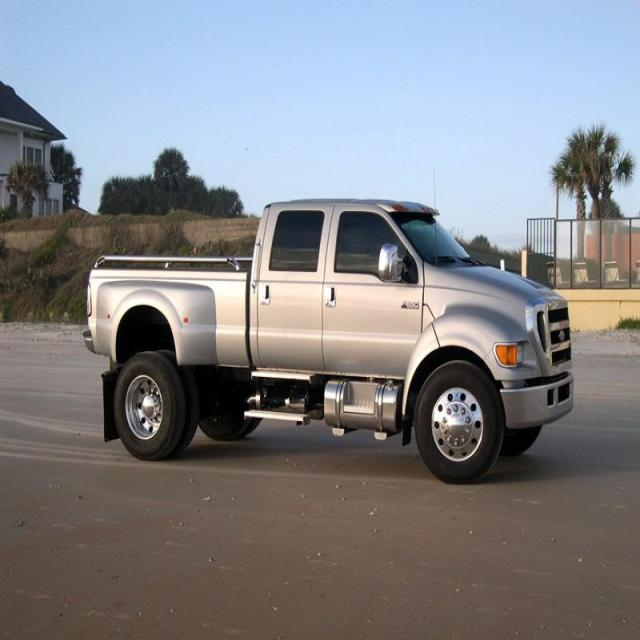door: (250, 201, 334, 390)
front_bumper: (496, 362, 582, 432)
front_glass: (393, 210, 476, 275)
front_right_side_door: (320, 195, 427, 393)
front_right_side_light: (490, 332, 533, 371)
front_right_side_mirror: (375, 238, 405, 282)
wheel: (416, 357, 502, 482), (116, 349, 190, 458), (198, 386, 263, 435)
